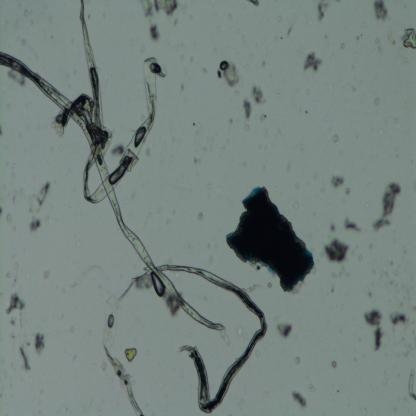Air bubble: (219, 59, 228, 71)
Background material: (372, 182, 402, 232), (322, 235, 351, 266), (364, 308, 384, 352), (29, 180, 51, 213), (141, 0, 181, 18), (15, 343, 32, 375), (5, 292, 27, 316), (301, 52, 324, 73), (31, 327, 46, 355), (289, 387, 308, 408), (250, 84, 266, 108), (388, 310, 410, 327), (401, 26, 416, 50), (5, 68, 25, 86), (277, 320, 294, 341), (315, 1, 331, 22), (224, 66, 240, 86), (373, 0, 389, 20), (344, 217, 362, 233), (10, 259, 22, 283), (328, 173, 346, 188), (409, 366, 416, 403), (124, 346, 138, 364), (242, 98, 252, 123), (148, 23, 161, 42), (28, 218, 43, 233), (332, 266, 350, 277), (233, 324, 247, 338), (329, 132, 341, 148), (285, 21, 294, 41), (374, 36, 384, 53), (385, 30, 397, 44), (190, 154, 202, 165), (258, 112, 270, 122), (178, 80, 186, 94), (327, 221, 337, 232), (305, 381, 314, 393), (293, 356, 302, 367), (339, 39, 347, 50), (5, 212, 12, 224), (249, 0, 263, 6), (330, 282, 337, 294), (366, 289, 374, 298), (214, 70, 222, 78), (197, 212, 204, 221), (332, 360, 338, 370), (346, 186, 351, 196), (357, 254, 363, 261), (266, 282, 272, 289), (42, 275, 49, 280)
Cellulose filter fibre: (0, 53, 231, 345), (101, 262, 268, 415), (78, 0, 168, 205), (150, 274, 165, 296)
Fragment: (226, 186, 315, 294)
